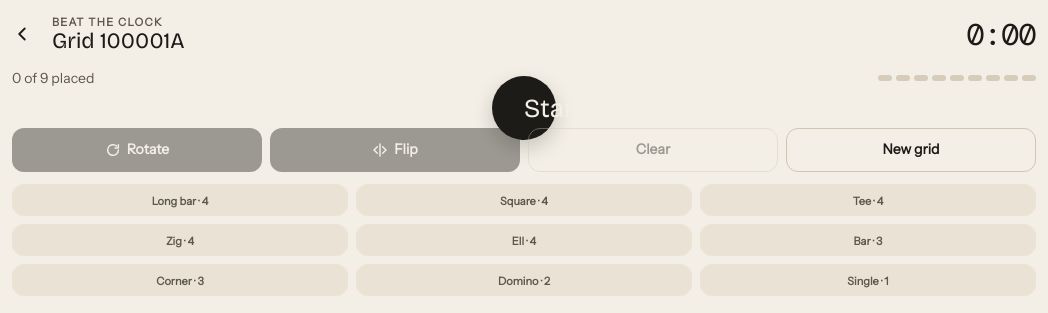
Test: PlayScreen dragging › abandons the settle animation if the board is cleared meanwhile
Click the button "Start": (524, 108) [492,76,556,140]
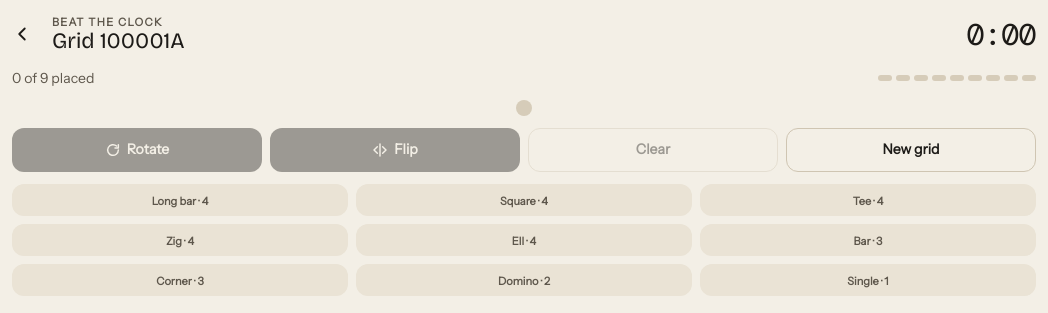
Press the mouse on the button "Single · 1": (868, 280) [700,264,1036,296]
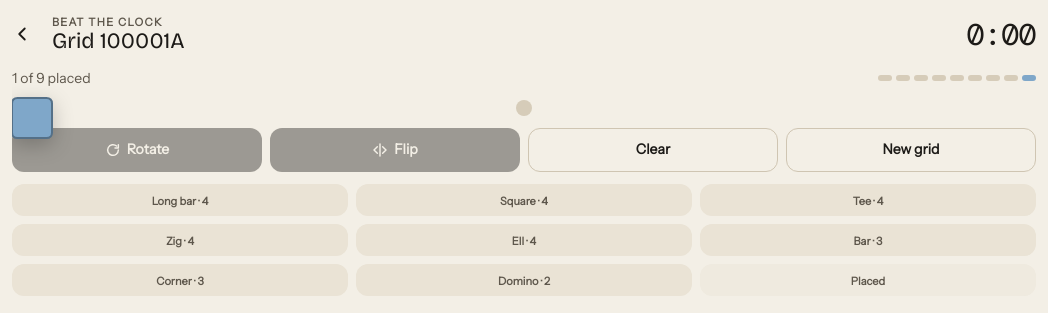
Click the button "Clear": (653, 150) [528,128,778,172]
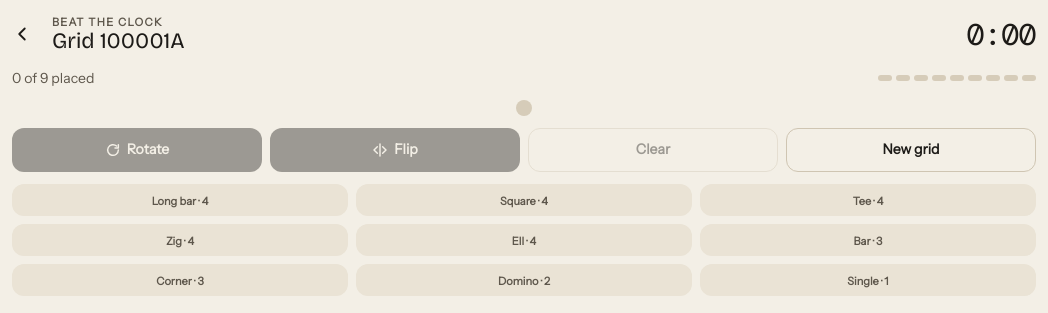
Check: the text "0 of 9 placed" is shown, box [12,69,94,87]
